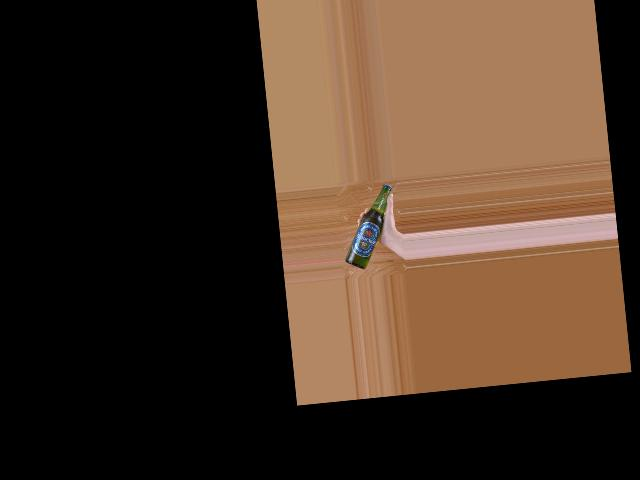beer: (338, 183, 399, 271)
